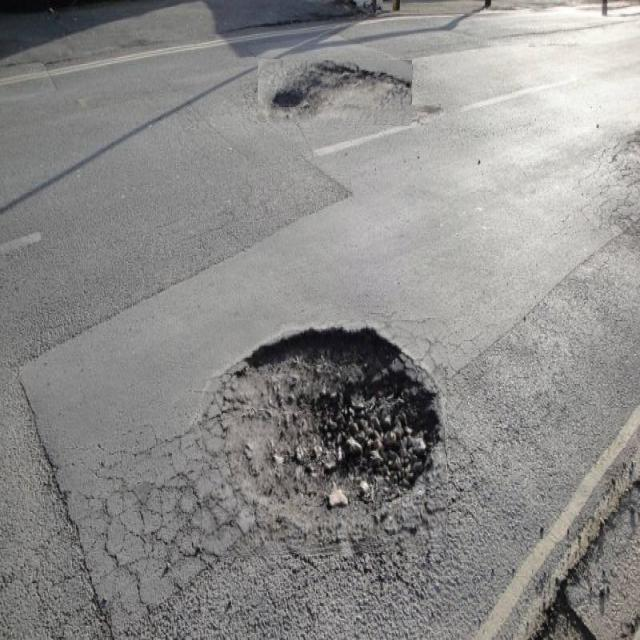Pothole: (202, 320, 448, 556), (258, 60, 412, 125)
